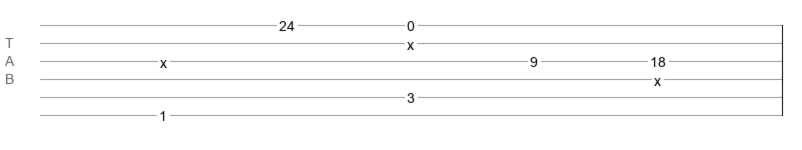0: (407, 18, 415, 28)
1: (159, 108, 167, 118)
18: (650, 54, 666, 64)
24: (279, 18, 295, 28)
3: (407, 90, 415, 100)
9: (530, 54, 538, 64)
x: (160, 55, 167, 63), (407, 37, 414, 45), (654, 73, 661, 81)
